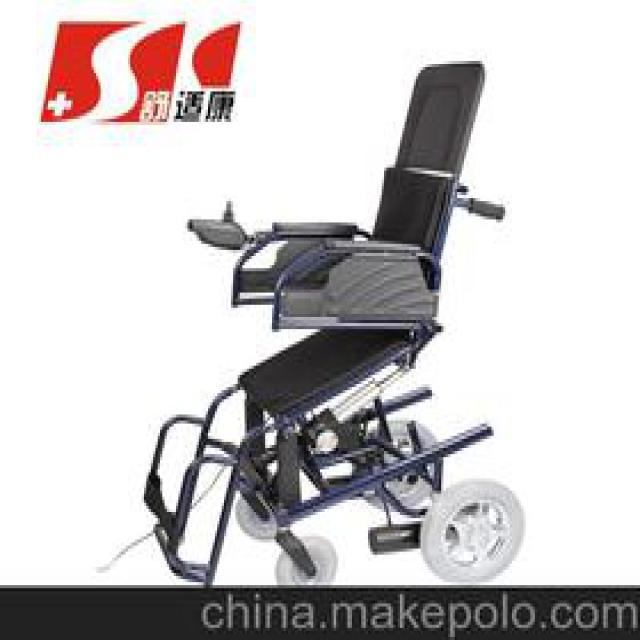wheelchair: (128, 48, 526, 580)
